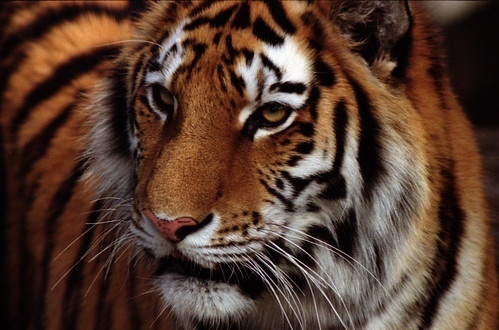tigre: (6, 1, 490, 329)
